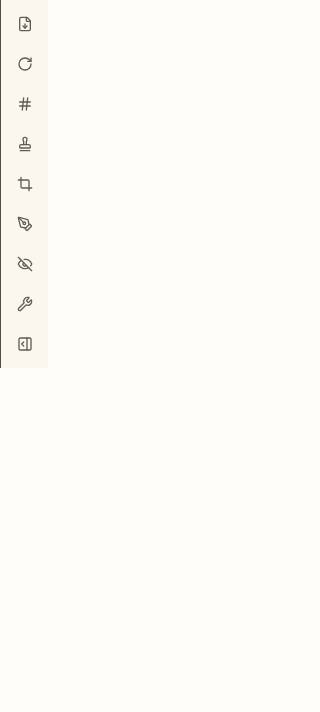
Scenario: Suite 12 — PDF Editor: Tool Panels › TP-01f — every preset shows what it would produce, against the current size
This screenshot has width=320, height=712.
Click the button titled "Compress PDF". click: (24, 24)
box: [4,4,44,44]
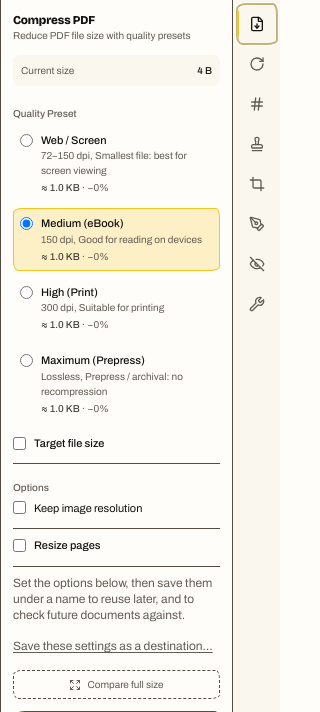
Check: the number of elements with test id "preset-estimate" is 4, box [41,182,109,193]; [41,251,109,262]; [41,319,109,330]; [41,403,109,414]
Check: the element with test id "preset-estimate" below "72–150 dpi" shows "≈", box [41,182,50,193]
Check: the element with test id "preset-estimate" below "72–150 dpi" shows "%", box [41,182,109,193]
